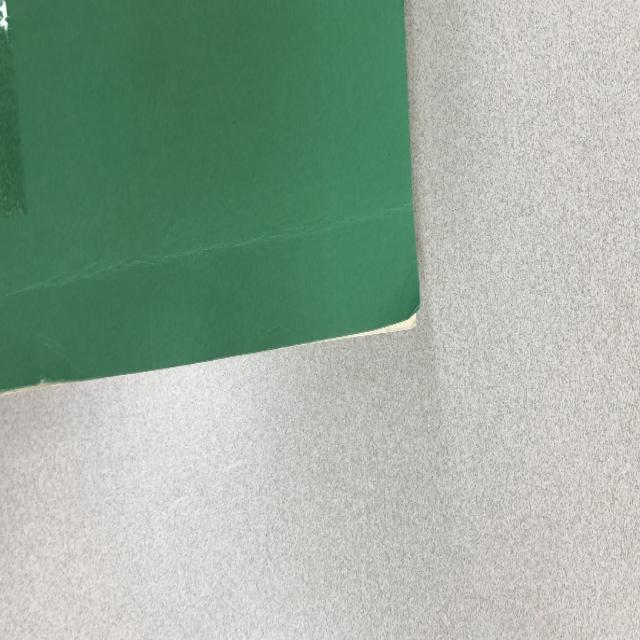Wornout: (0, 360, 73, 404)
